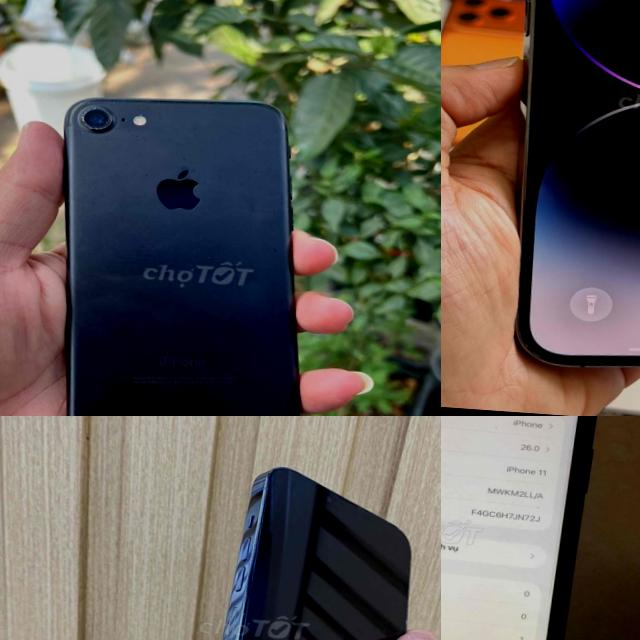gen_11: (441, 416, 594, 640)
gen_12_13: (177, 456, 441, 640)
gen_14: (491, 0, 640, 398)
gen_7_8: (40, 85, 334, 416)
scratch: (156, 96, 271, 110), (77, 104, 120, 136), (266, 230, 283, 254), (140, 168, 152, 176)
